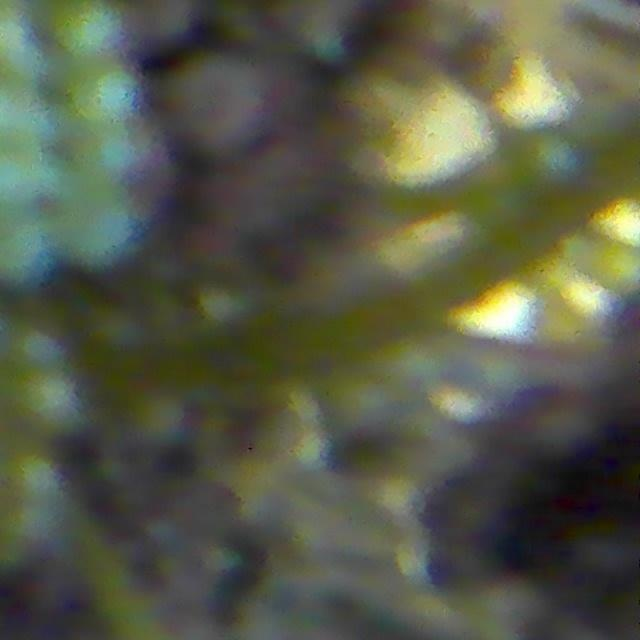SeaGrape: (11, 365, 90, 441), (65, 125, 162, 185), (68, 64, 145, 136), (42, 0, 127, 64), (63, 200, 138, 264), (517, 128, 585, 193), (0, 206, 58, 277), (8, 323, 66, 377), (588, 237, 639, 297)
